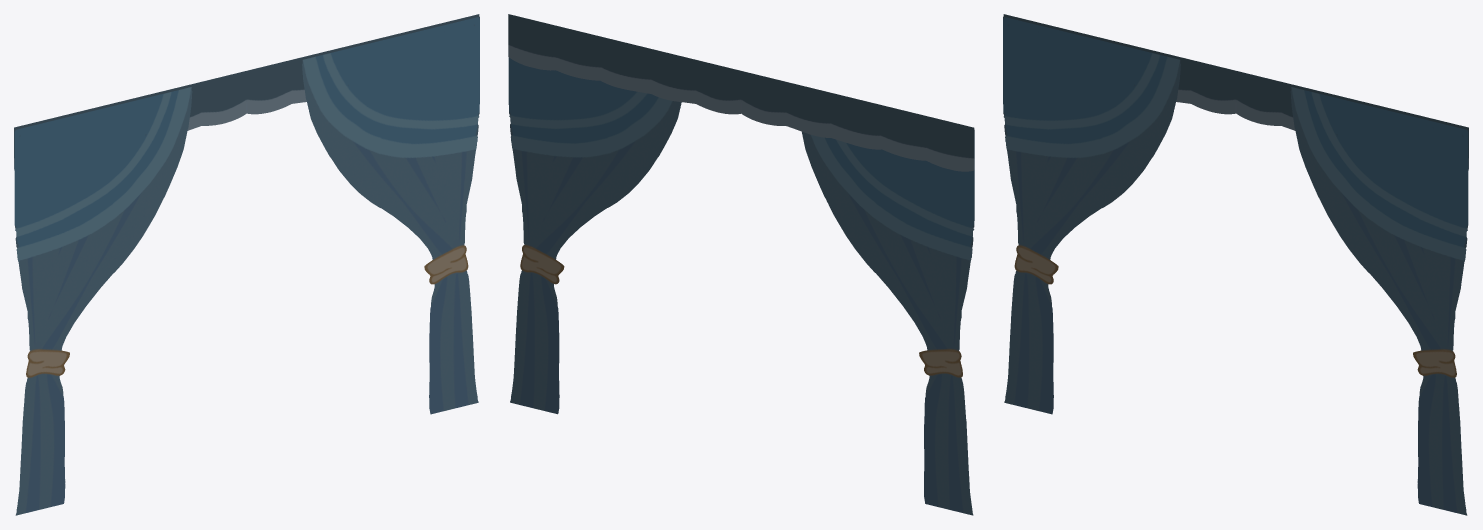
File: Mesh_Room_Curtain.fbx
3 views of the same model, side by side, from view 1: azimuth 30°, elevation 25°; view 2: azimuth 150°, elevation 25°; view 3: azimuth 330°, elevation 25° (orthographic).
Visible parts, largest first — view 1: Mesh_Room_Curtain; view 2: Mesh_Room_Curtain; view 3: Mesh_Room_Curtain.
Boxes of the visible parts, x1,y1,x2,y2 form: Mesh_Room_Curtain: [14, 14, 479, 515]; Mesh_Room_Curtain: [508, 14, 974, 515]; Mesh_Room_Curtain: [1003, 14, 1468, 515].
Size of the model in its own units: 233 by 186 by 0.3562.
Materials: 1 (1 with a texture image).
